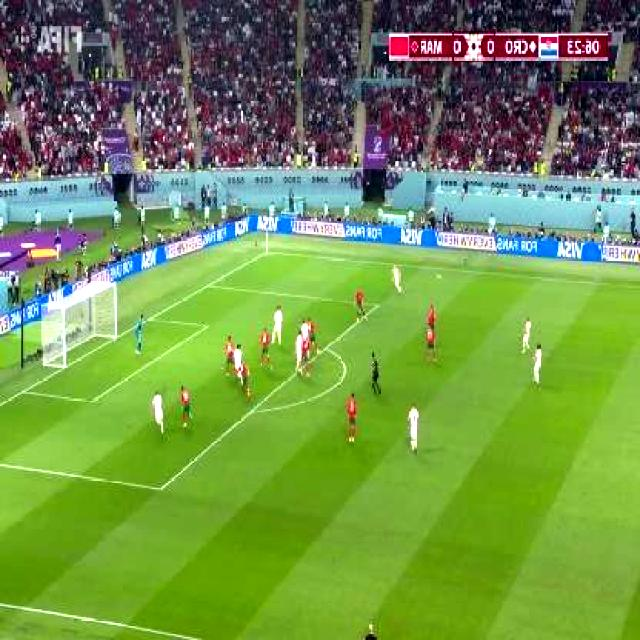bigarea_bottom_inner: (152, 474, 171, 501)
bigarea_top_inner: (371, 294, 386, 314)
bigarea_top_outter: (203, 277, 217, 292)
bottom_arc_area_intersection: (244, 400, 262, 422)
corner: (262, 246, 276, 259)
smallarea_bottom_inner: (83, 388, 102, 412)
smallarea_bottom_outter: (17, 382, 32, 400)
smallarea_top_inner: (202, 316, 216, 336)
smallarea_top_outter: (143, 308, 159, 328)
top_arc_area_intersection: (320, 337, 335, 357)
